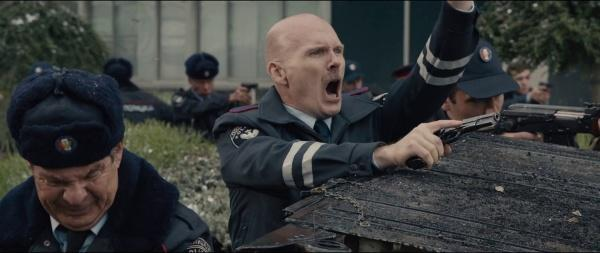Gun: (407, 113, 500, 172), (241, 83, 259, 92)
